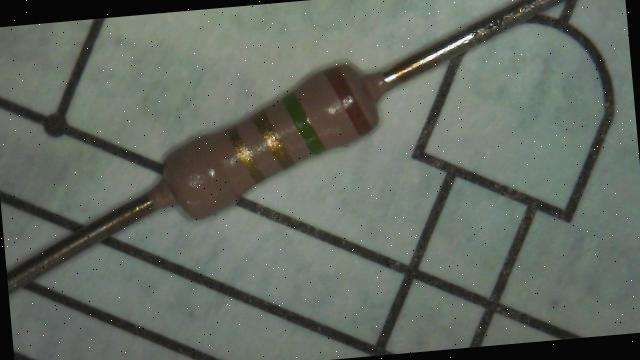brown: (325, 65, 373, 140)
gold: (252, 110, 294, 172), (224, 122, 266, 184)
green: (282, 90, 326, 158)
resistor: (120, 35, 416, 267)
